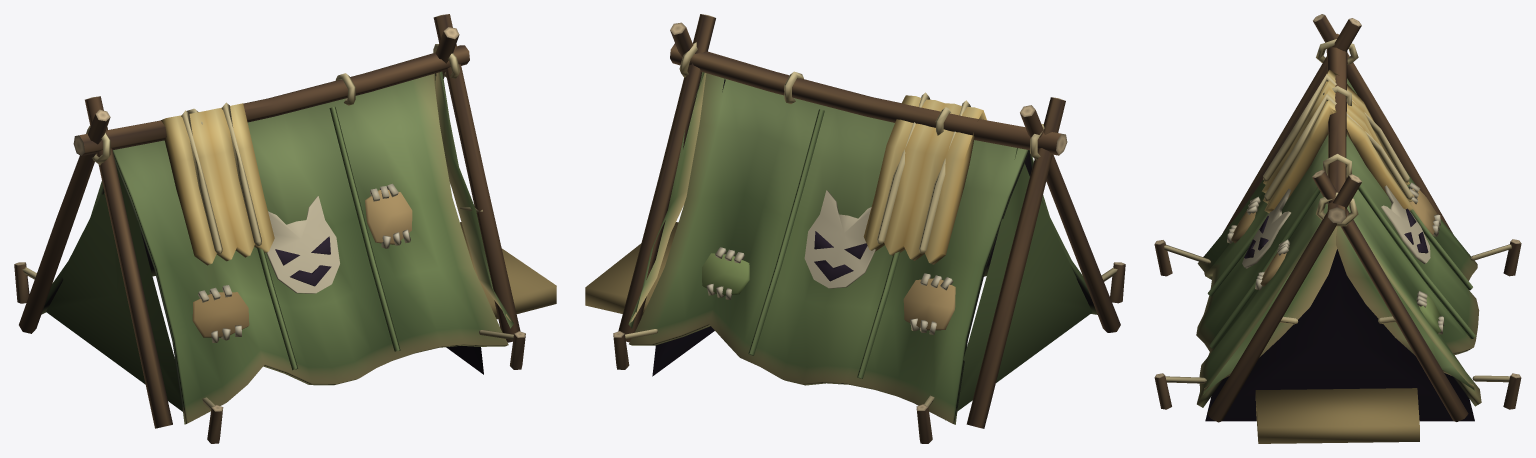
File: prop-siege-tent-v2.glb
3 views of the same model, side by side, from view 1: azimuth 30°, elevation 25°; view 2: azimuth 150°, elevation 25°; view 3: azimuth 270°, elevation 25° (orthographic). The views are drawn at different scales.
Visible parts, largest first — view 1: body, cloth; view 2: body, cloth; view 3: body, cloth.
Part boxes in pixels (x1,y1,x2,y2): body: (14,14,556,443); cloth: (433,71,513,328); body: (585,14,1125,443); cloth: (628,72,706,328); body: (1154,14,1521,443); cloth: (1203,226,1474,394).
Bounding box in the file's own units: 2.36 × 1.53 × 1.91.
